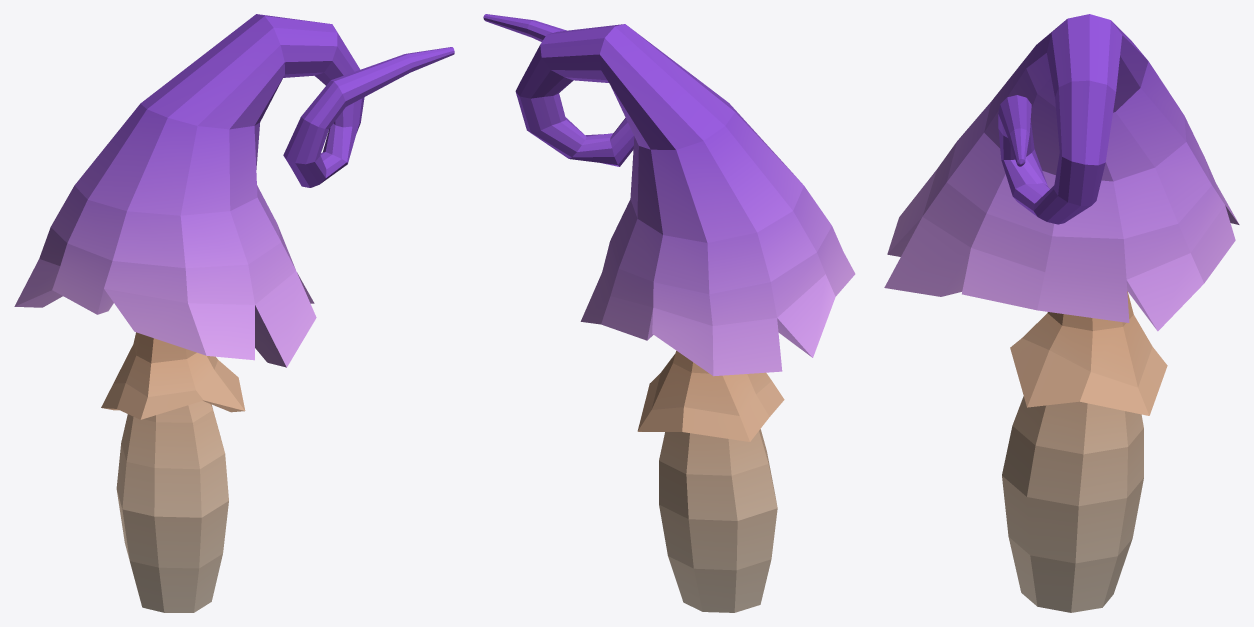
File: Purple_Mushroom2.obj
3 renders of one model, left to right at view 1: azimuth 30°, elevation 25°; view 2: azimuth 150°, elevation 25°; view 3: azimuth 270°, elevation 25°, orthographic. The views are drawn at different scales.
Visible parts, largest first — view 1: PP_Mushroom_Fantasy_Purple_05; view 2: PP_Mushroom_Fantasy_Purple_05; view 3: PP_Mushroom_Fantasy_Purple_05.
Boxes of the visible parts, x1,y1,x2,y2 form: PP_Mushroom_Fantasy_Purple_05: (14, 14, 454, 612); PP_Mushroom_Fantasy_Purple_05: (483, 14, 855, 612); PP_Mushroom_Fantasy_Purple_05: (884, 14, 1239, 612).
Size of the model in its own units: 0.2172 by 0.298 by 0.1511.
Materials: 1 (1 with a texture image).
